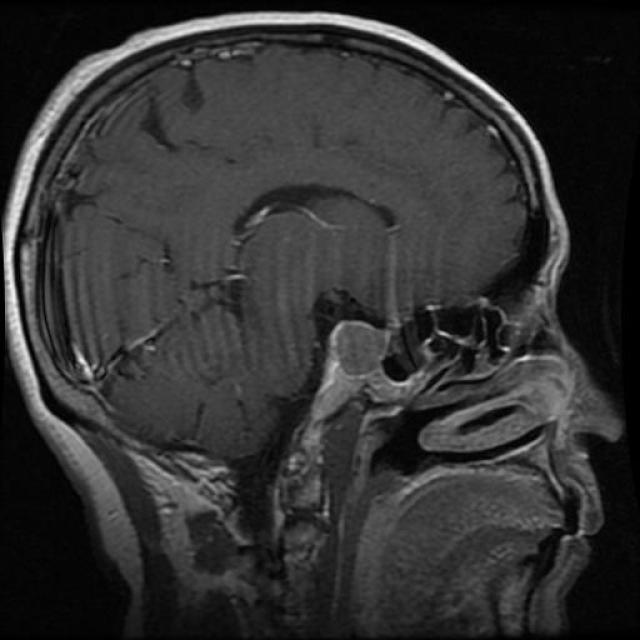pituitary: (284, 304, 411, 426)
